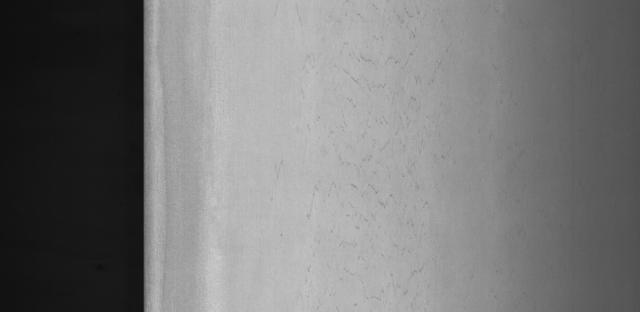silk_spot: (282, 0, 464, 292)
